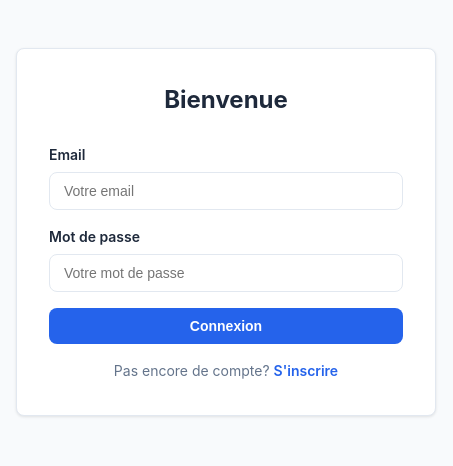
Test case: Page de connexion › devrait afficher une erreur en cas d'échec de connexion
The image size is (453, 466).
Type "wrong@test.com" into the field labelled "Email" at (226,191), box x1=49 y1=172 x2=403 y2=210
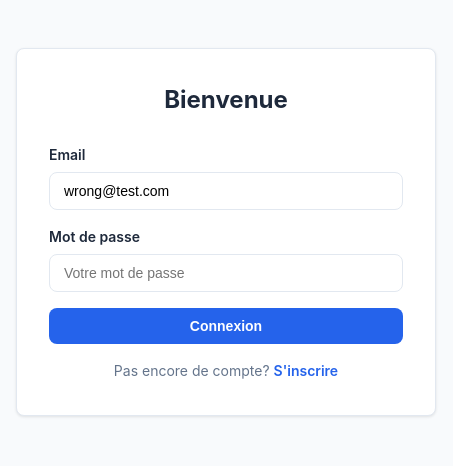
Type "wrongpass" into the password field labelled "Mot de passe" at (226,273), box x1=49 y1=254 x2=403 y2=292
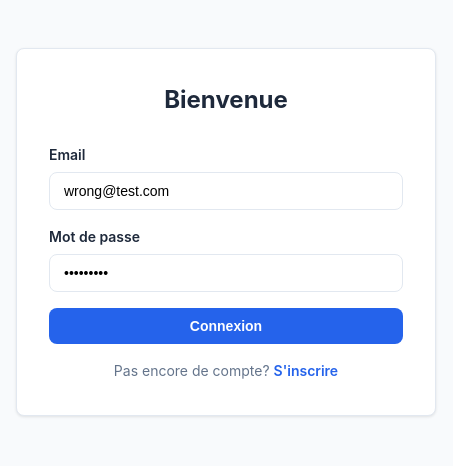
Click the button "Connexion" at (226,326), box x1=49 y1=308 x2=403 y2=344
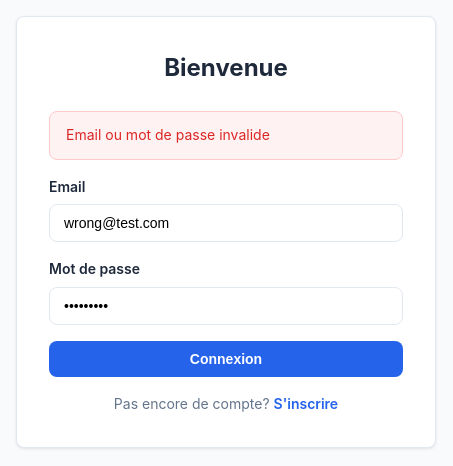
Expected: the text "Email ou mot de passe invalide" is shown, x1=49 y1=111 x2=403 y2=160
